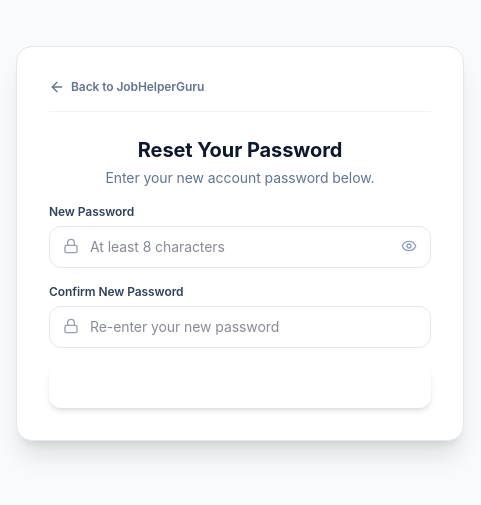
Test: AuthLinkPage Component › shows validation error when passwords do not match
The width and height of the screenshot is (481, 505).
Type "NewSecurePassword123!" into the password field labelled "New Password". click: (240, 246)
box: x1=49 y1=226 x2=431 y2=268
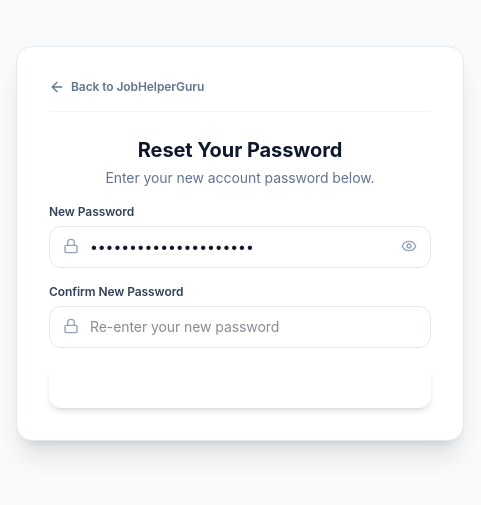
Type "DifferentPassword456!" into the password field labelled "Confirm New Password". click: (240, 326)
box: x1=49 y1=306 x2=431 y2=348
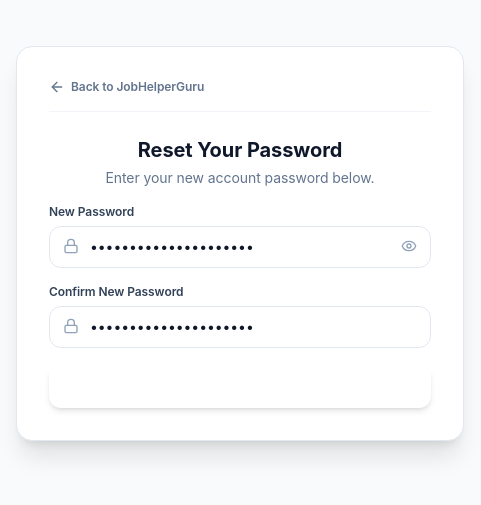
Click the button "Set New Password". click: (240, 386)
box: x1=49 y1=364 x2=431 y2=408
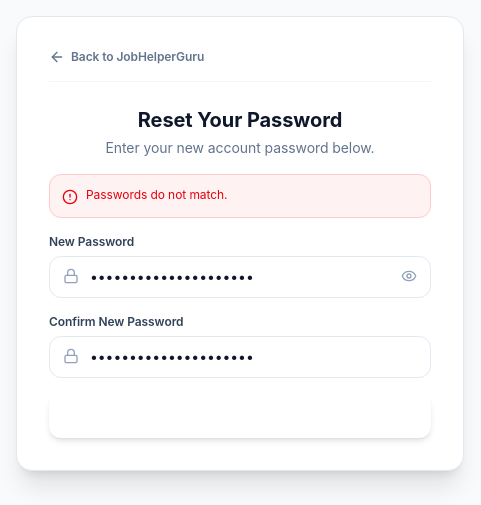
expect the text "Passwords do not match." is shown: met, box x1=86 y1=186 x2=227 y2=202
